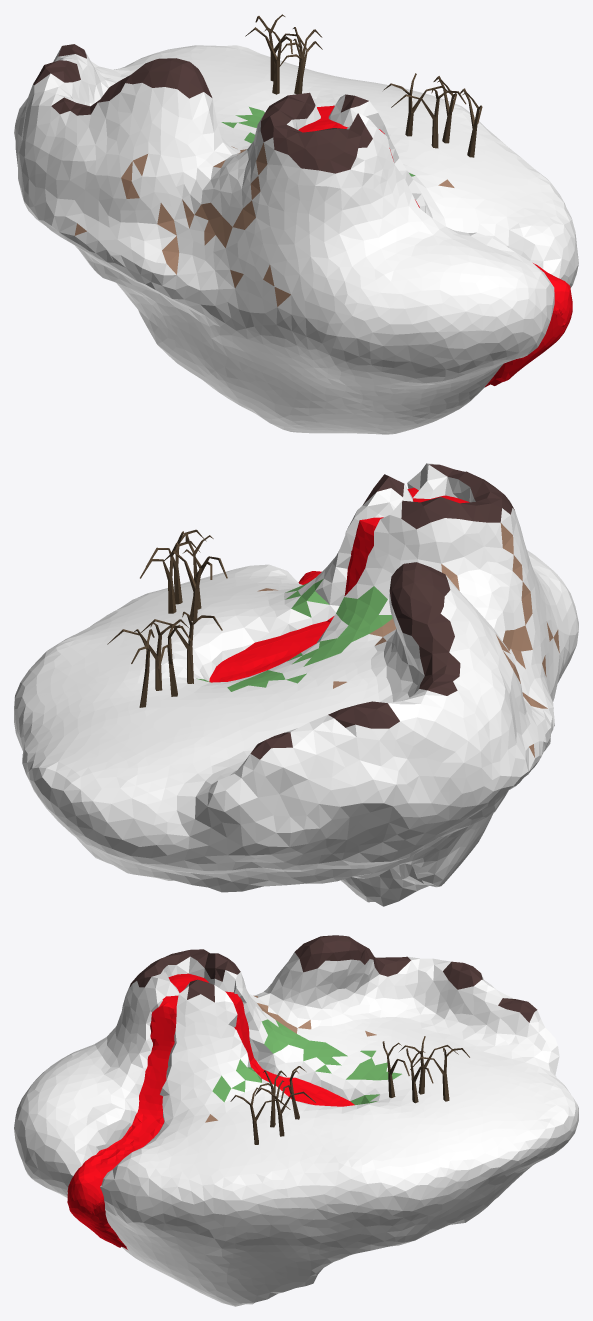
The model's file is lavaislandsolidified.fbx.
3 views of the same model, one above another, from view 1: azimuth 30°, elevation 25°; view 2: azimuth 150°, elevation 25°; view 3: azimuth 270°, elevation 25° (orthographic). The views are drawn at different scales.
Parts seen in each view (by area): view 1: Land, Plane, Cube, Cube.004; view 2: Land, Plane, Cube.005, Cube.003, Cube.006, Cube.002; view 3: Land, Plane.
Boxes of the visible parts, x1=… form: Land: x1=14, y1=44, x2=578, y2=434; Plane: x1=298, y1=105, x2=572, y2=387; Cube: x1=391, y1=88, x2=466, y2=148; Cube.004: x1=245, y1=27, x2=292, y2=94; Land: x1=14, y1=463, x2=578, y2=906; Plane: x1=209, y1=487, x2=469, y2=682; Cube.005: x1=140, y1=611, x2=222, y2=683; Cube.003: x1=164, y1=549, x2=212, y2=621; Cube.006: x1=107, y1=621, x2=190, y2=690; Cube.002: x1=140, y1=541, x2=200, y2=613; Land: x1=14, y1=935, x2=578, y2=1306; Plane: x1=67, y1=973, x2=354, y2=1249.
Size of the model in its own units: 3345 by 2643 by 4536.
